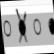correct: (46, 15, 54, 38)
no answer: (1, 17, 14, 42), (31, 15, 44, 37)
not correct: (14, 6, 30, 46)
